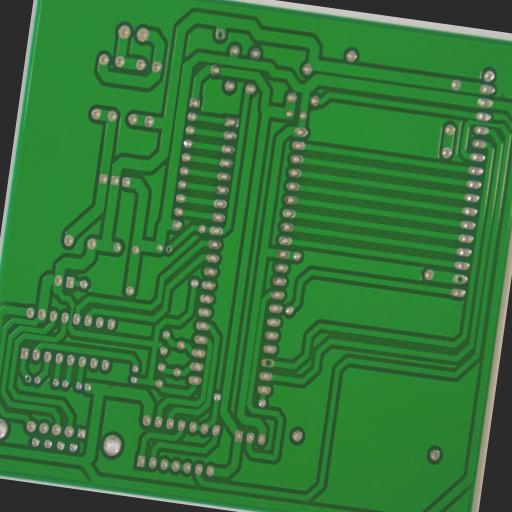missing_hole: (264, 358, 272, 368), (24, 374, 32, 384), (456, 275, 464, 284), (217, 30, 224, 39), (166, 245, 172, 254)
